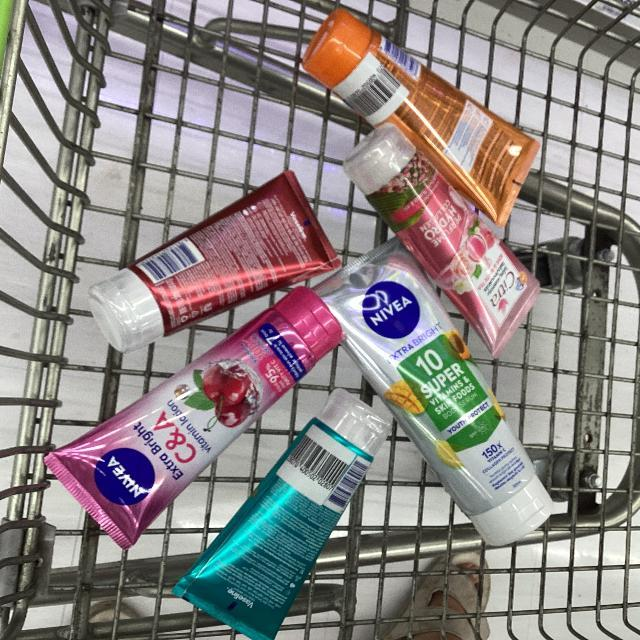Squeeze Tube: (44, 0, 588, 640)
